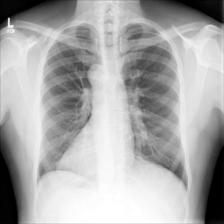normal: (34, 19, 192, 193)
